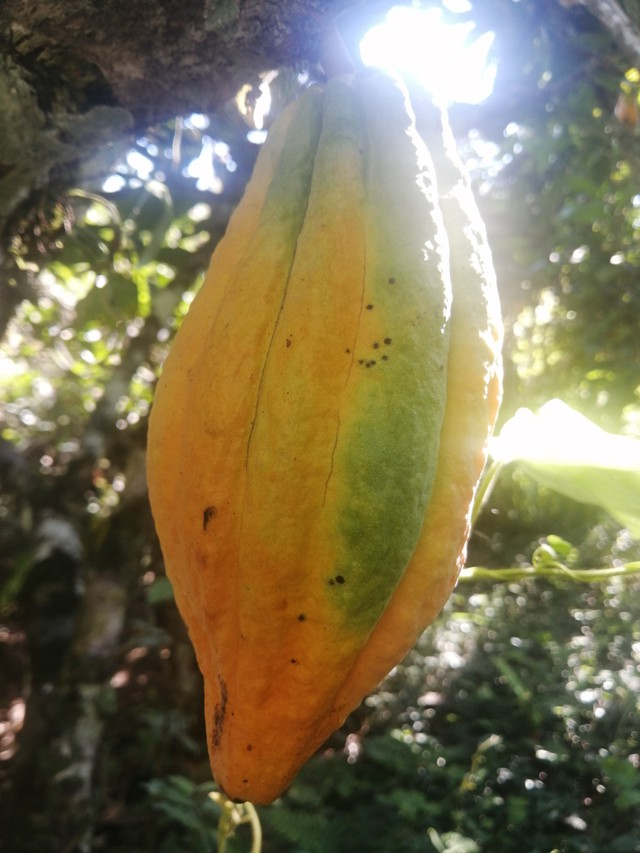Health: (98, 45, 544, 818)
